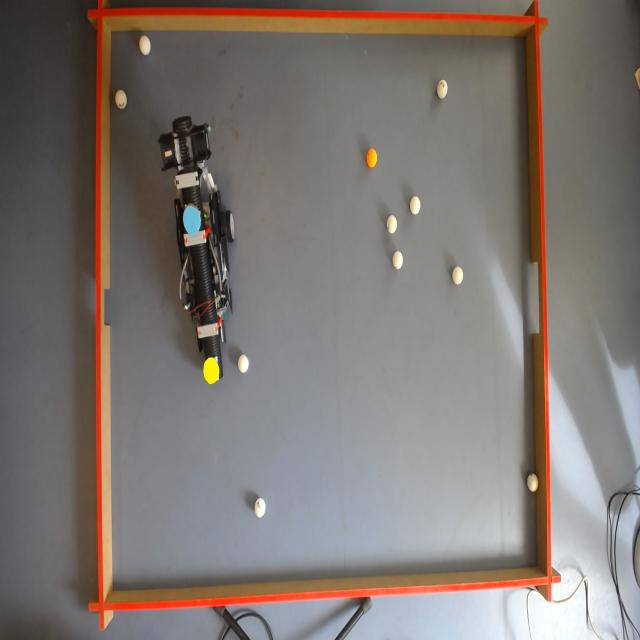orange: (368, 149, 380, 170)
robot: (156, 111, 236, 384)
robot-front: (202, 361, 221, 383)
robot-rear: (184, 208, 202, 232)
white: (237, 353, 249, 377), (255, 498, 268, 520), (138, 36, 151, 58), (116, 89, 130, 109), (527, 473, 539, 494), (451, 265, 464, 284), (436, 81, 449, 99), (393, 252, 404, 272), (411, 196, 422, 214), (386, 217, 398, 233)
